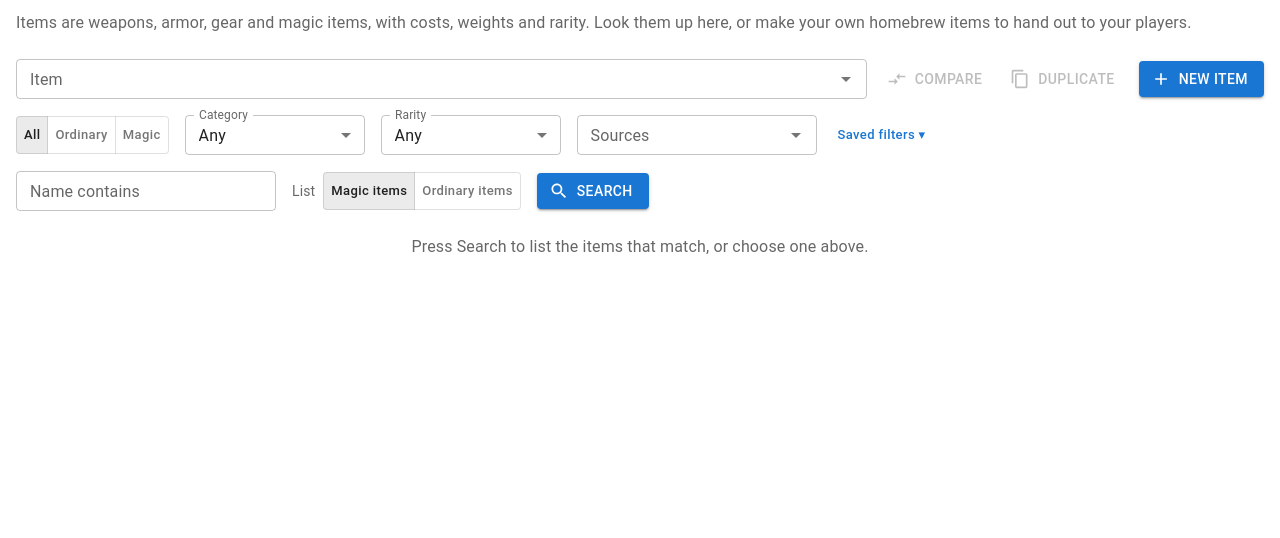
Test: items in a document shared with the user › can only be looked at by a viewer
Type "lantern" into the dropdown labelled "Item" at (425, 79), box [22,65,828,93]
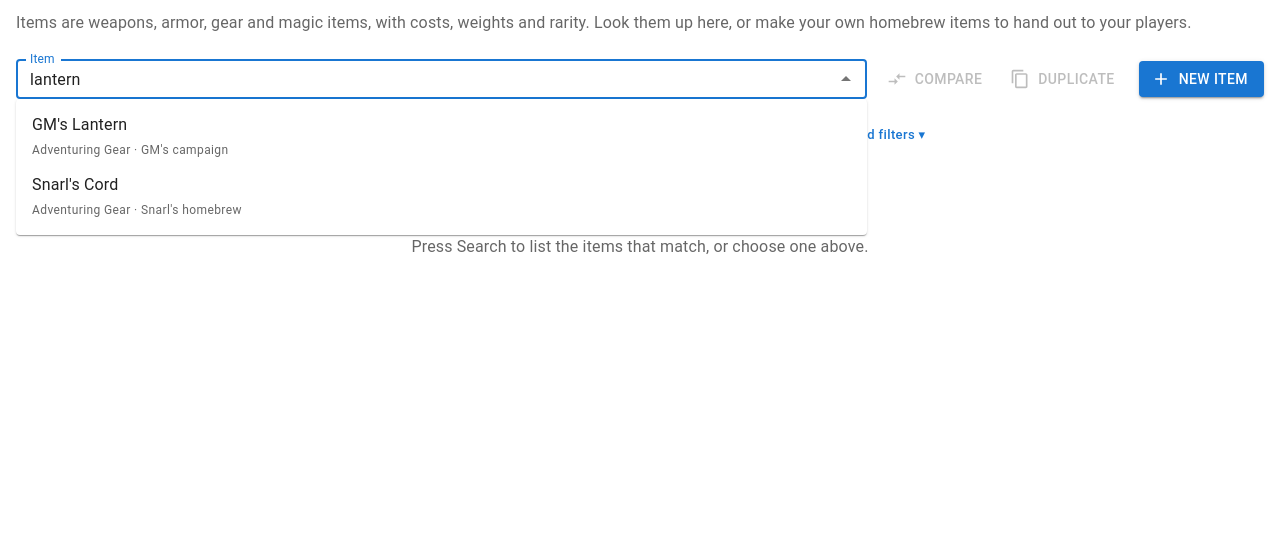
Check: the option "Snarl's Cord Adventuring Gear · Snarl's homebrew" is shown
Click the option "Snarl's Cord Adventuring Gear · Snarl's homebrew" at (75, 184), box [32,175,242,217]
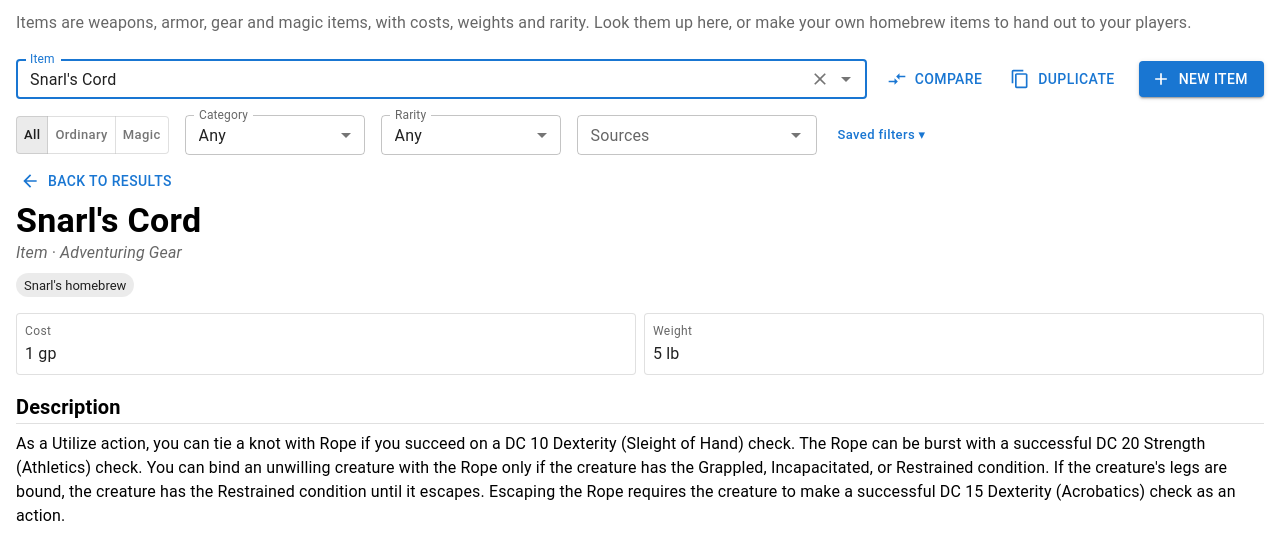
Check: the heading "Snarl's Cord" is shown, box [16,200,201,240]
Check: the button "Duplicate" is enabled, box [1006,61,1123,97]
